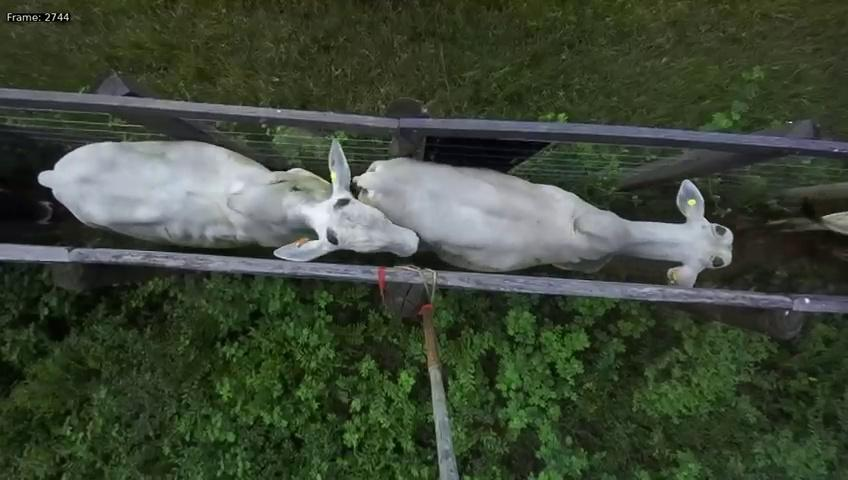cattle: (353, 131, 741, 293), (34, 131, 427, 265)
